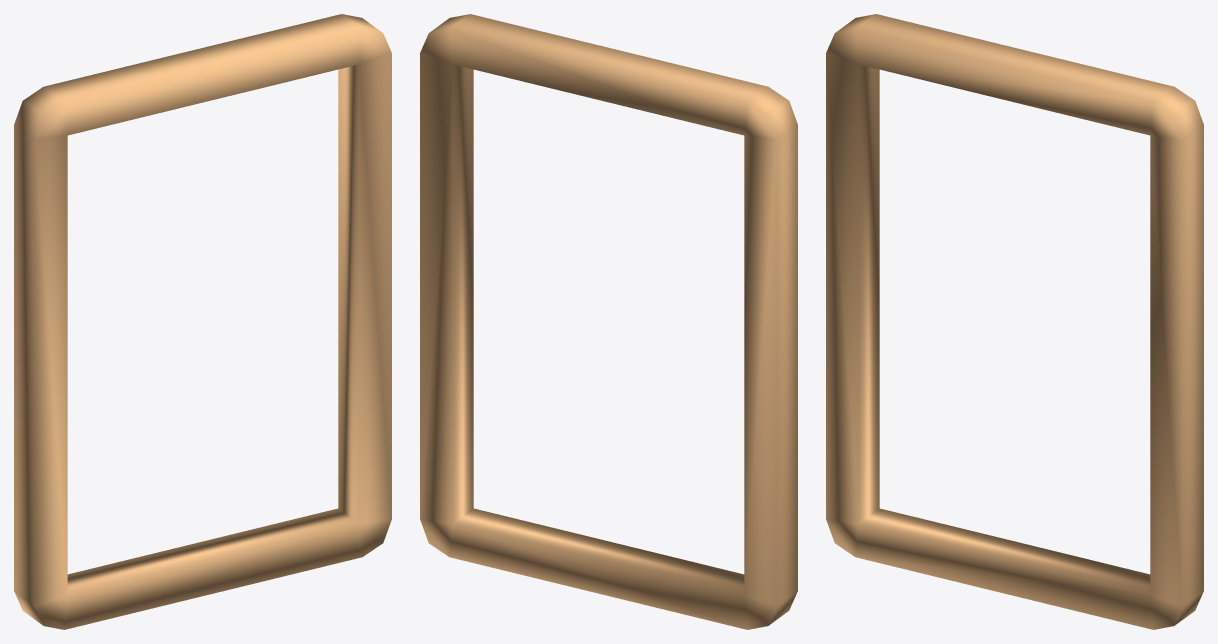
File: edge.obj
The picture shows the model from 3 angles, left to right: view 1: azimuth 30°, elevation 25°; view 2: azimuth 150°, elevation 25°; view 3: azimuth 330°, elevation 25°; orthographic projection.
Parts seen in each view (by area): view 1: cuttingBoard.003_cuttingBoard.004; view 2: cuttingBoard.003_cuttingBoard.004; view 3: cuttingBoard.003_cuttingBoard.004.
Part boxes in pixels (x1,y1,x2,y2): cuttingBoard.003_cuttingBoard.004: [14, 14, 391, 629]; cuttingBoard.003_cuttingBoard.004: [420, 14, 797, 629]; cuttingBoard.003_cuttingBoard.004: [826, 14, 1203, 629].
Size of the model in its own units: 0.435 by 0.615 by 0.0443.
